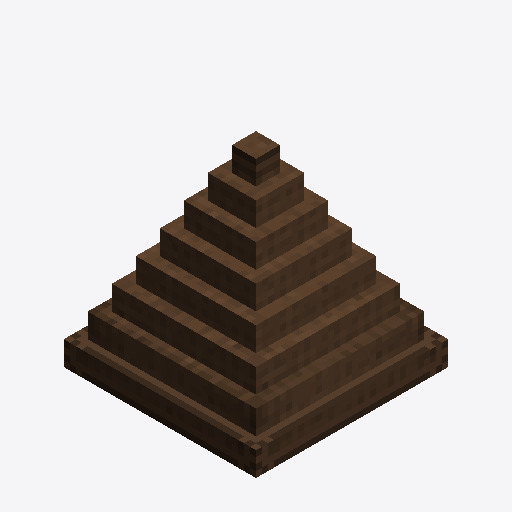
Isometric view (azimuth 45°, elevation 35.3°) of a Minecraft model made of 8 cuboids, textured from the same repository.
Parts seen in each view (by area): layer1, layer2, layer3, layer4, layer5, layer6, layer7, layer8.
Part boxes in pixels (x1,y1,x2,y2): layer1: (64, 326, 447, 477); layer2: (88, 298, 423, 435); layer3: (112, 270, 399, 393); layer4: (136, 242, 375, 352); layer5: (160, 215, 351, 310); layer6: (184, 187, 327, 269); layer7: (208, 159, 303, 227); layer8: (232, 131, 279, 185).
Size of the model in its own units: 16 by 16 by 16.